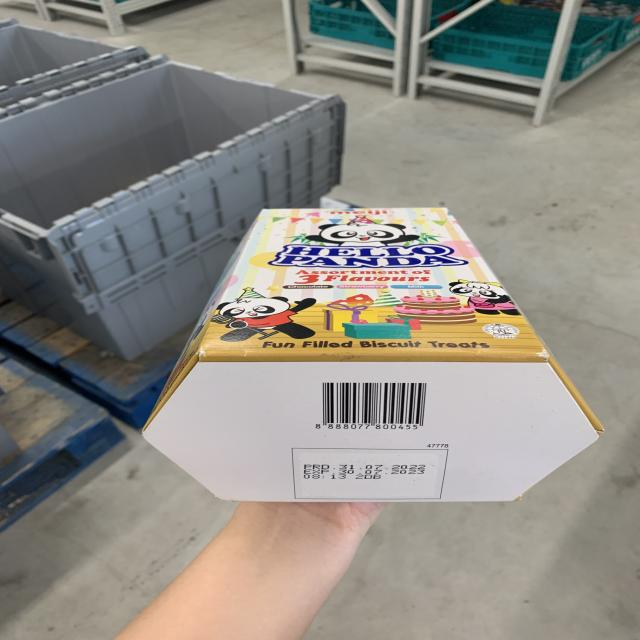object_name: (184, 202, 543, 495)
